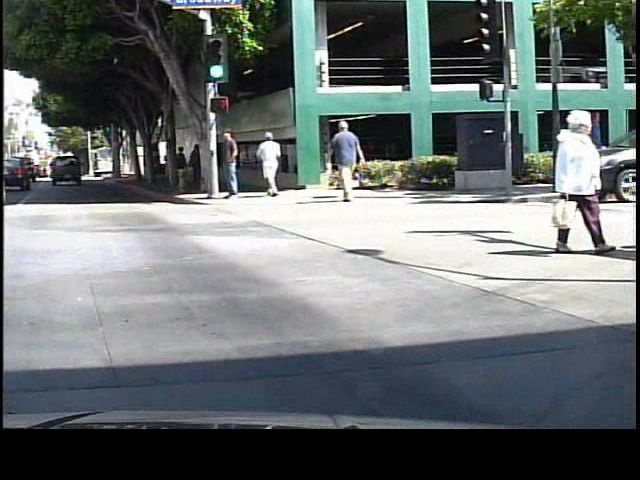person: (542, 103, 617, 260), (329, 117, 365, 201), (220, 127, 250, 208), (578, 106, 607, 187), (255, 126, 284, 199), (185, 140, 205, 192), (172, 144, 188, 190)
